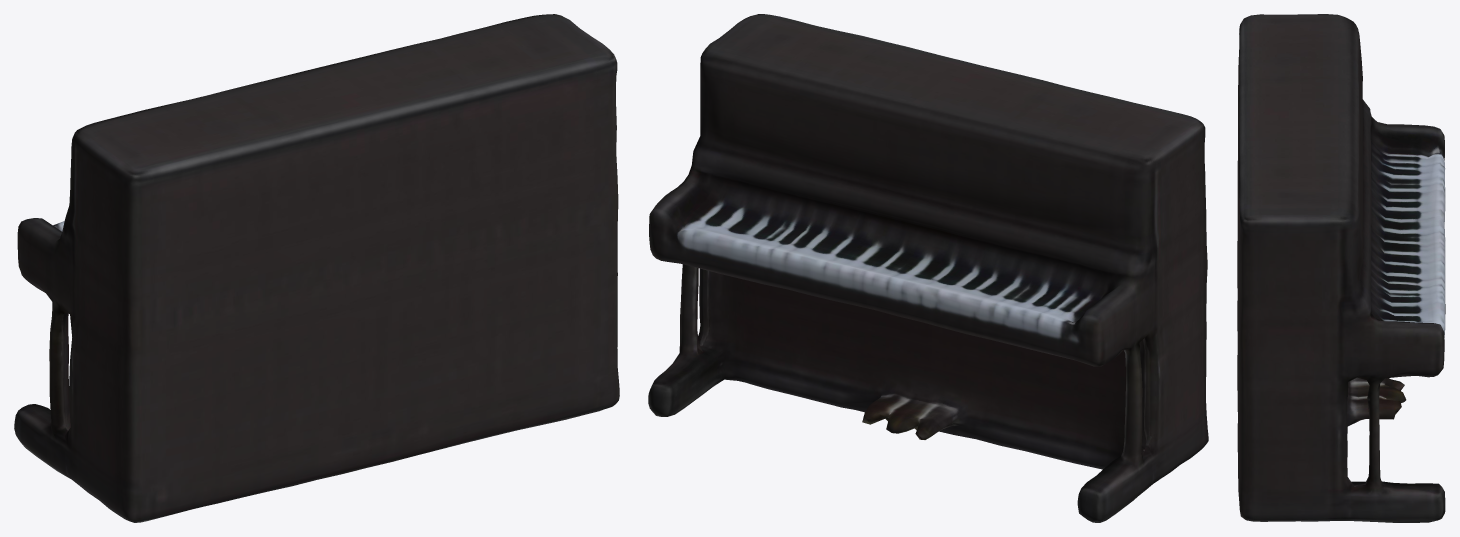
Rendered from piano.glb.
3 renders of one model, left to right at view 1: azimuth 30°, elevation 25°; view 2: azimuth 150°, elevation 25°; view 3: azimuth 270°, elevation 25°, orthographic. The views are drawn at different scales.
Parts seen in each view (by area): view 1: mesh; view 2: mesh; view 3: mesh.
Part boxes in pixels (bbox=[...]): mesh: bbox=[14, 14, 619, 522]; mesh: bbox=[648, 14, 1208, 522]; mesh: bbox=[1237, 14, 1445, 522].
Bounding box in the file's own units: 0.9978 × 0.6877 × 0.4193.
1 material, 1 textured.
